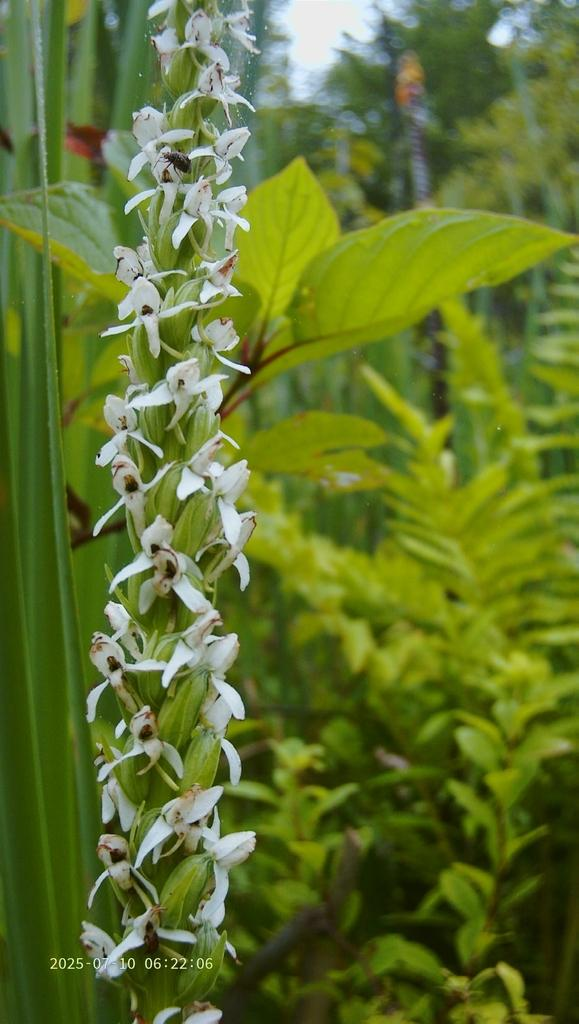plant_bugs: (146, 137, 198, 191)
